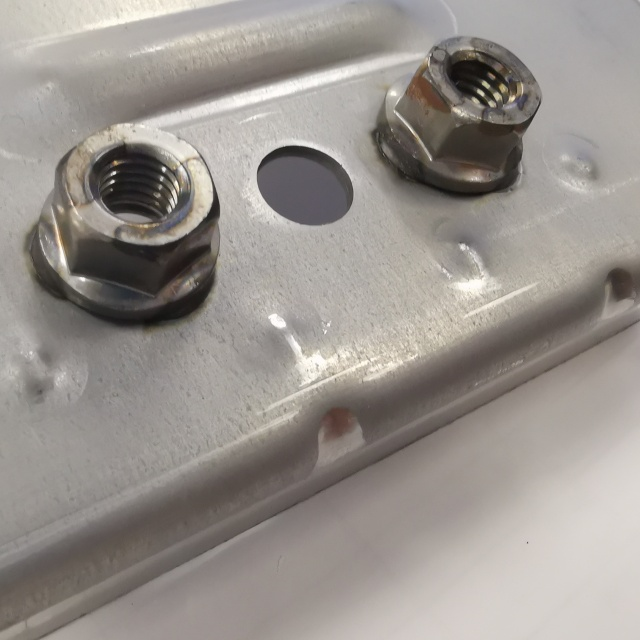dog: (21, 117, 223, 326), (371, 30, 544, 198)
